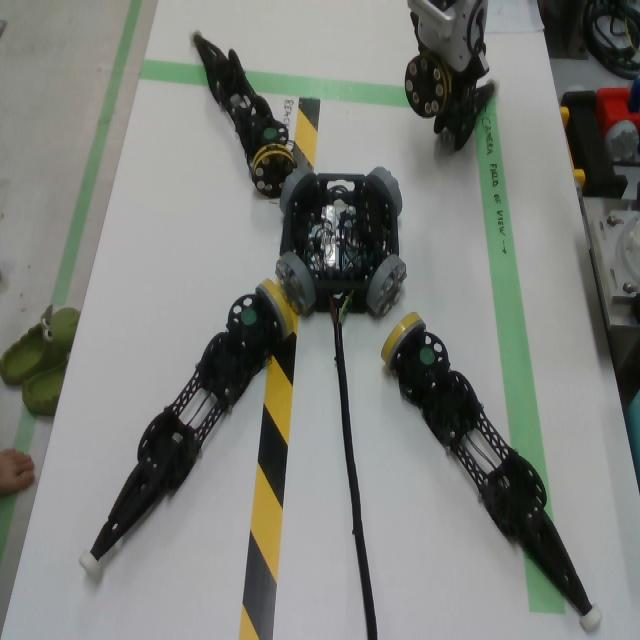body: (280, 173, 400, 315)
body_connector: (275, 252, 316, 316), (366, 255, 408, 317), (367, 167, 403, 217), (279, 167, 316, 212)
gripper: (409, 0, 490, 97)
leg: (380, 312, 602, 633), (78, 279, 294, 579), (187, 27, 297, 197), (405, 55, 501, 151)
leg_connector: (405, 55, 452, 119), (381, 312, 427, 371), (251, 144, 297, 199), (254, 279, 294, 341)
leg_marker: (420, 348, 435, 365), (241, 308, 256, 325), (264, 128, 278, 139)
